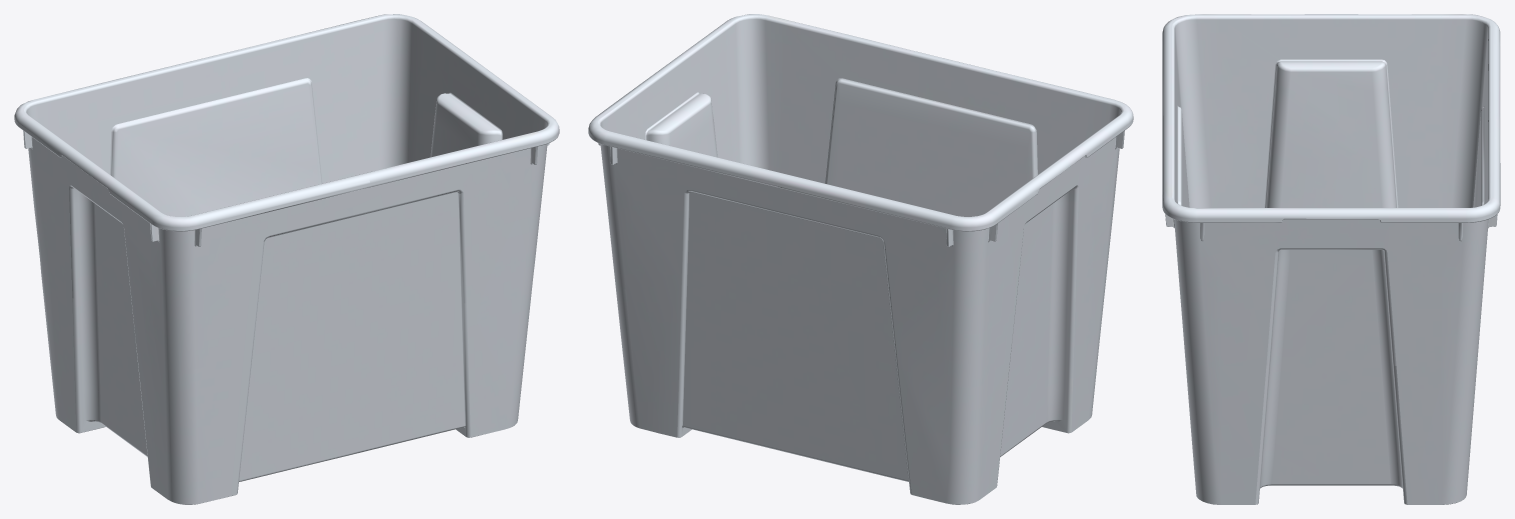
File: SAMLA boite 39x28x28 cm-22 l transparent.glb
3 views of the same model, side by side, from view 1: azimuth 30°, elevation 25°; view 2: azimuth 150°, elevation 25°; view 3: azimuth 270°, elevation 25° (orthographic).
Visible parts, largest first — view 1: 80102976-SAMLA001; view 2: 80102976-SAMLA001; view 3: 80102976-SAMLA001.
Part boxes in pixels (x1,y1,x2,y2): 80102976-SAMLA001: (14, 14, 559, 504); 80102976-SAMLA001: (588, 14, 1133, 504); 80102976-SAMLA001: (1162, 14, 1500, 504).
Bounding box in the file's own units: 0.3896 × 0.2783 × 0.2775.
1 material, 1 textured.
